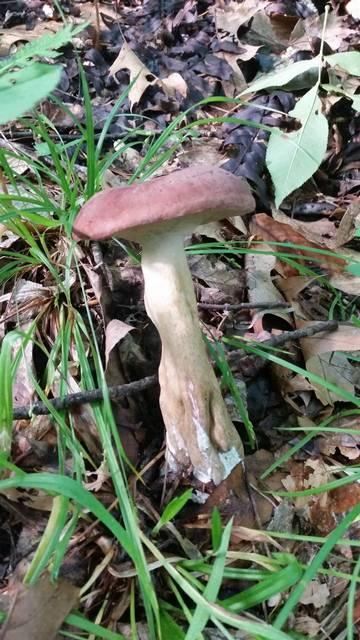poisonous_mushroom: (70, 163, 257, 496)
